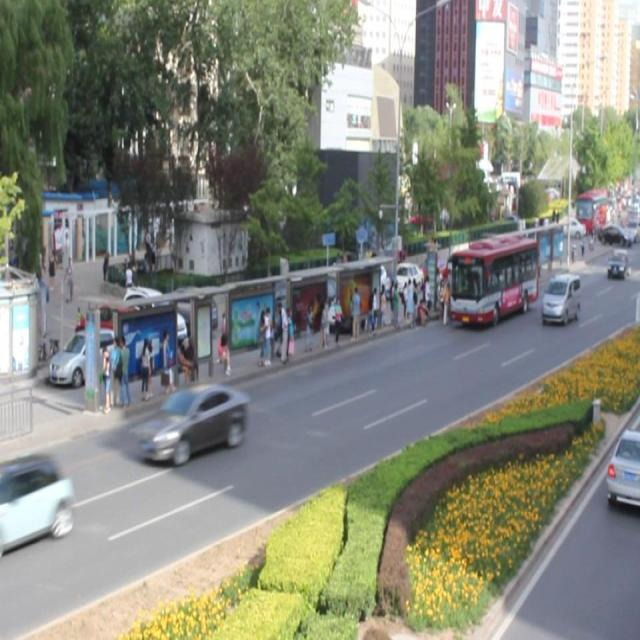car: (137, 381, 247, 466), (1, 451, 72, 545)
truck: (540, 270, 580, 322)
van: (451, 234, 538, 325)
